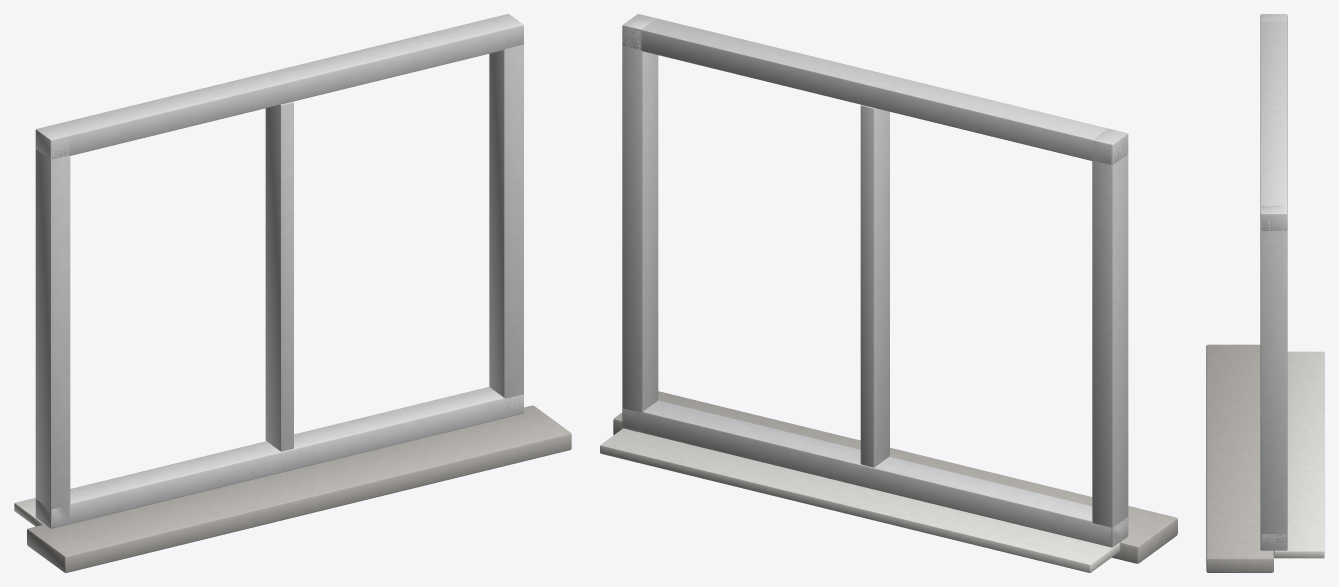
The model's file is SM_WindowFrame.fbx.
3 views of the same model, side by side, from view 1: azimuth 30°, elevation 25°; view 2: azimuth 150°, elevation 25°; view 3: azimuth 270°, elevation 25° (orthographic). The views are drawn at different scales.
Parts seen in each view (by area): view 1: SM_WindowFrame; view 2: SM_WindowFrame; view 3: SM_WindowFrame.
Boxes of the visible parts, box(x1,y1,x2,y2) form: SM_WindowFrame: box(14, 14, 571, 572); SM_WindowFrame: box(600, 14, 1177, 572); SM_WindowFrame: box(1206, 14, 1324, 572).
Size of what is drawn, in the model's own units: 1.5 by 1.15 by 0.35.
Materials: 1 (1 with a texture image).
